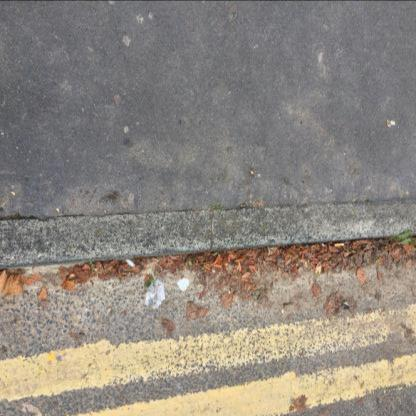Cigarette: (334, 243, 344, 246)
Plastic bag - wrapper: (145, 279, 165, 310)
Unlabeled litter: (177, 277, 189, 290)
